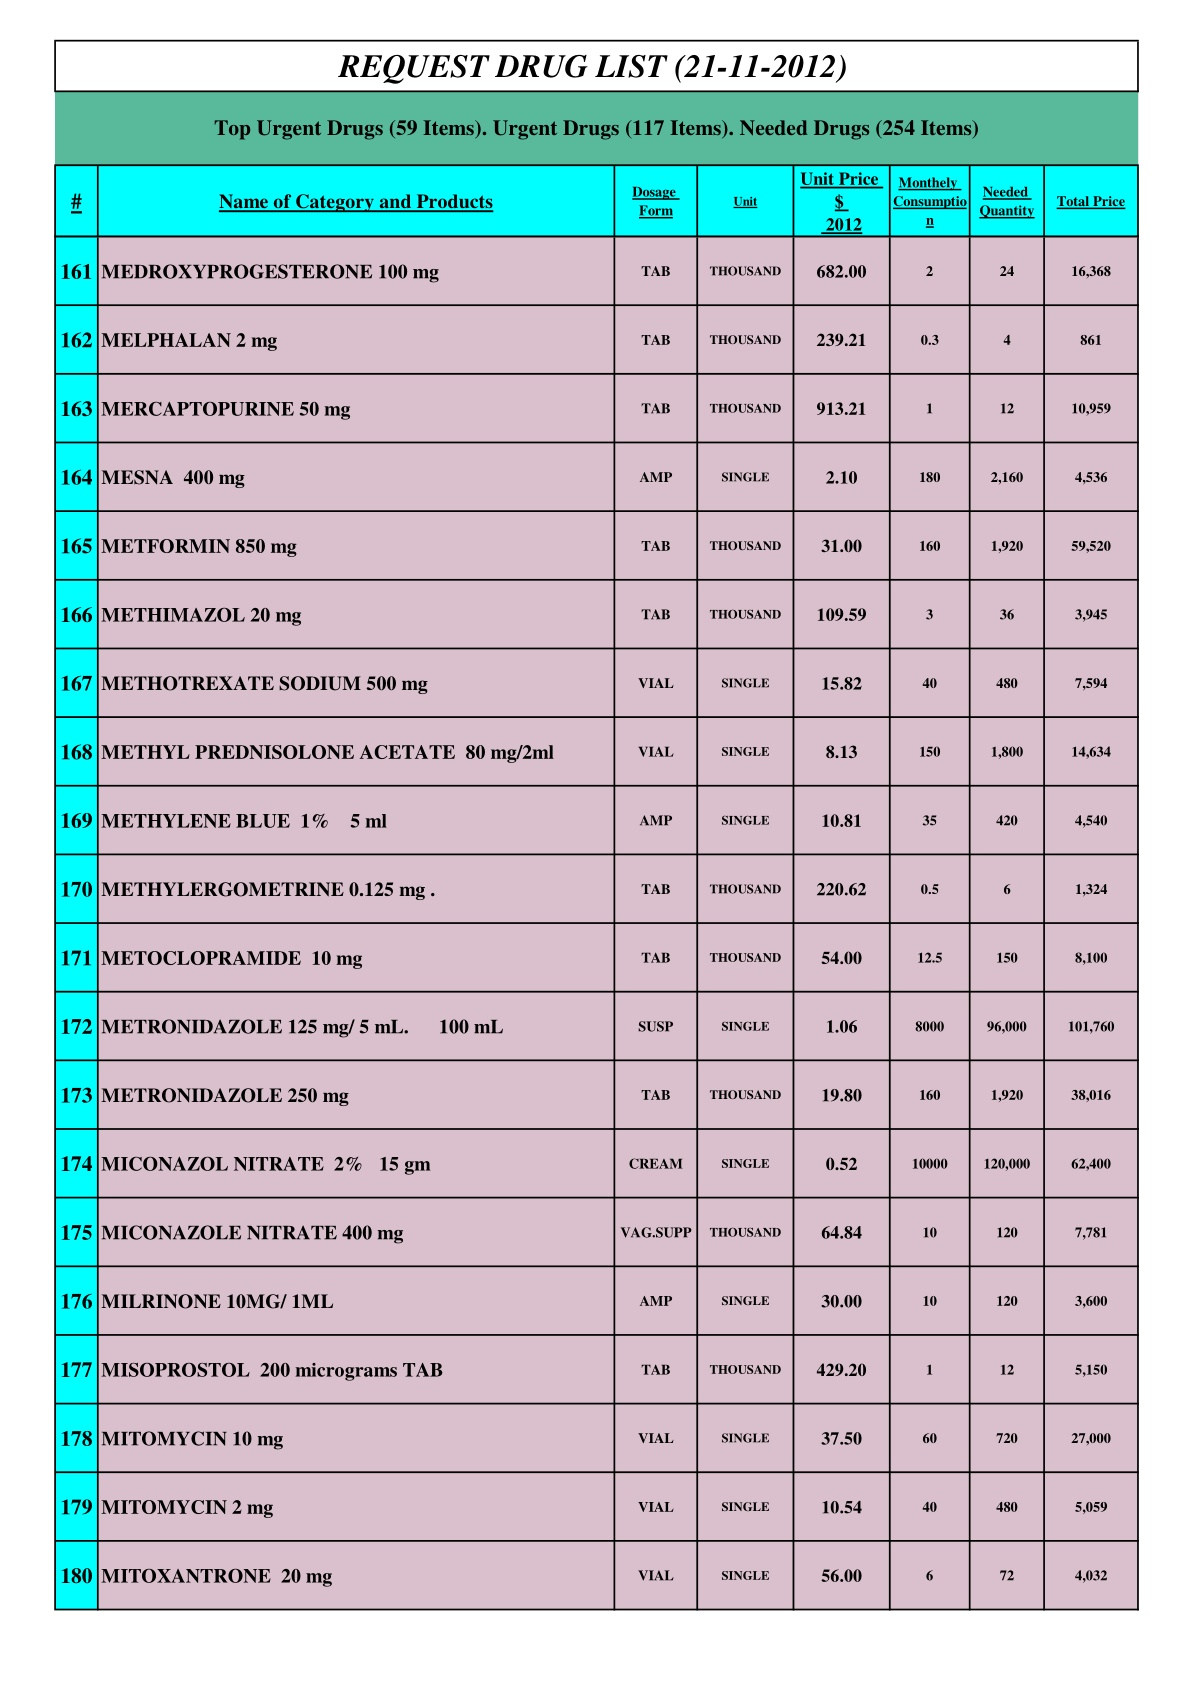merged_cells: (53, 39, 1141, 1612)
